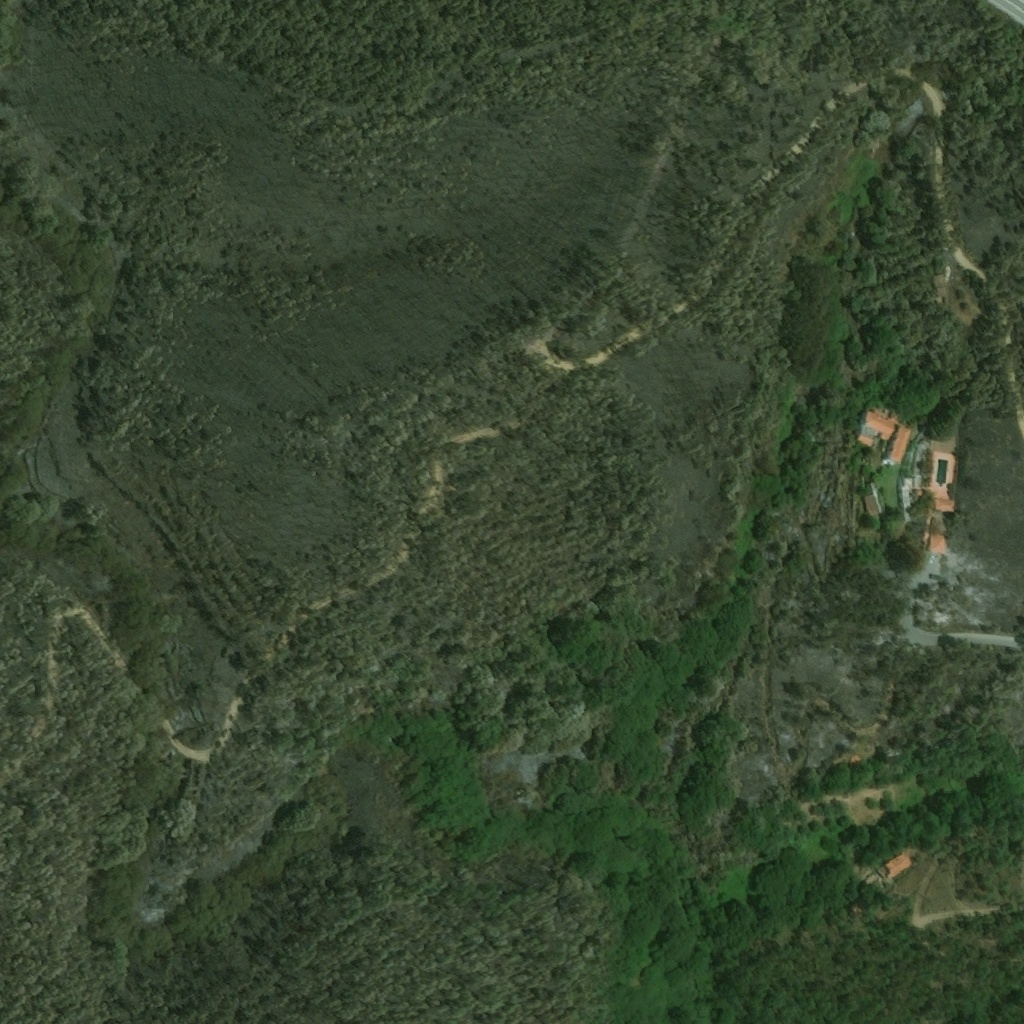0 no-damage: (858, 407, 912, 466), (876, 850, 911, 884), (862, 482, 882, 519), (921, 530, 945, 557), (933, 498, 956, 512), (854, 435, 875, 449), (913, 476, 921, 490), (912, 491, 921, 498)
